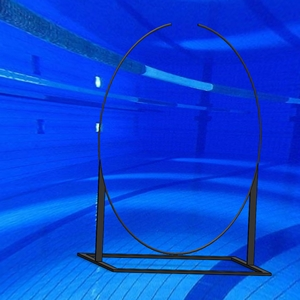circle: (76, 21, 273, 278)
